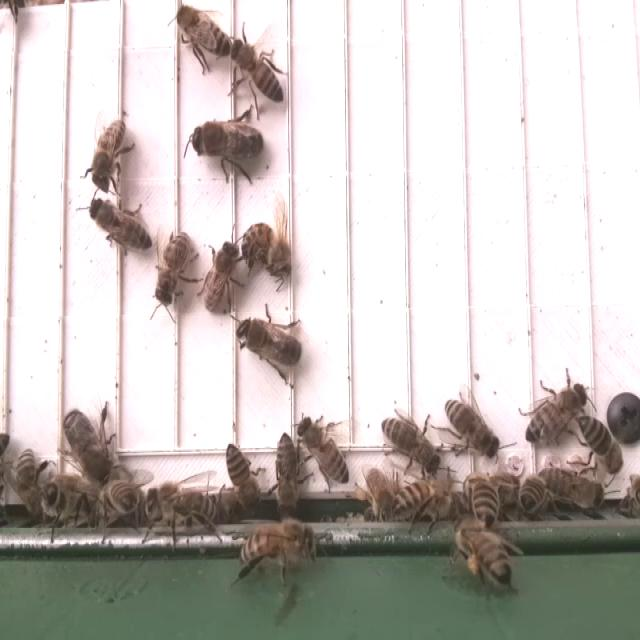Drone: (185, 114, 269, 174), (233, 312, 307, 375), (59, 403, 114, 487)
Worker: (521, 374, 591, 450), (376, 413, 445, 480), (81, 116, 138, 197), (228, 32, 288, 108), (87, 192, 152, 258), (443, 394, 503, 462), (295, 414, 352, 485), (172, 2, 234, 67), (237, 523, 320, 566), (152, 228, 194, 312), (200, 236, 242, 316), (574, 411, 624, 475), (539, 465, 605, 510), (240, 220, 297, 271), (224, 441, 262, 517), (272, 429, 304, 515), (388, 482, 456, 522), (467, 472, 504, 532)
